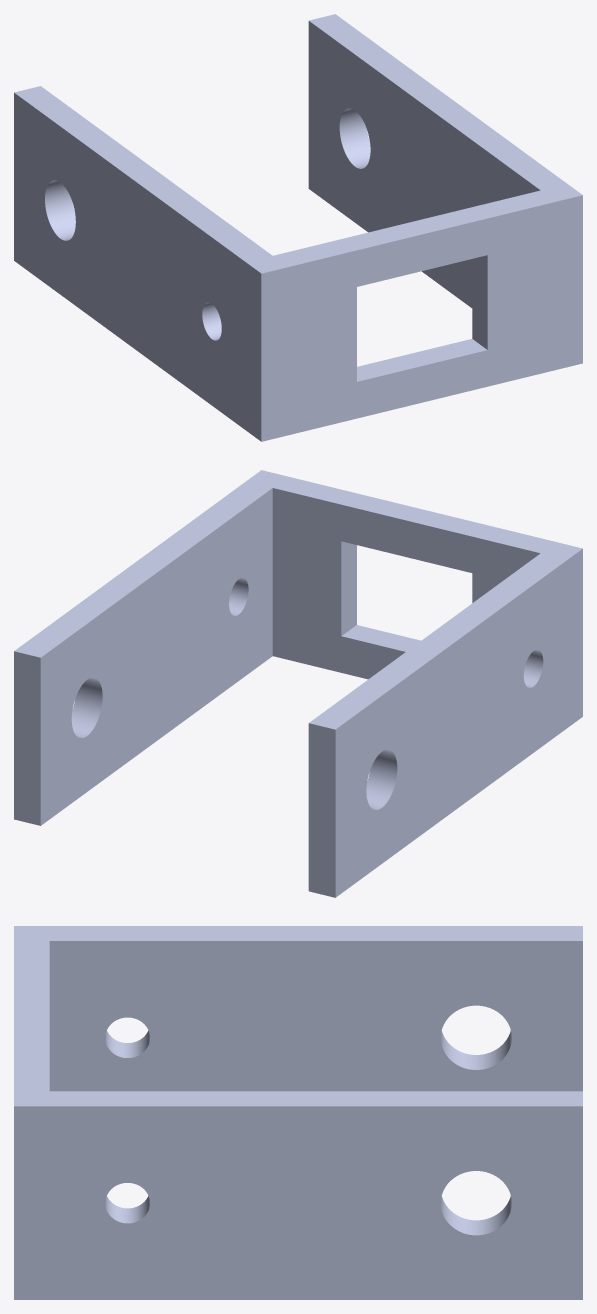
The model's file is _2025_DriveTrain_UBracket_R1.obj.
3 renders of one model, top to bottom at view 1: azimuth 30°, elevation 25°; view 2: azimuth 150°, elevation 25°; view 3: azimuth 270°, elevation 25°, orthographic. The views are drawn at different scales.
Visible parts, largest first — view 1: mesh16383, mesh16379, mesh16375, mesh16376, mesh16388, mesh16385, mesh16371, mesh16381, mesh16382; view 2: mesh16379, mesh16375, mesh16384, mesh16376, mesh16378, mesh16373, mesh16385, mesh16371, mesh16381, mesh16388, mesh16374, mesh16382; view 3: mesh16372, mesh16380, mesh16376, mesh16371, mesh16381, mesh16374, mesh16382.
Part boxes in pixels (x1=…): mesh16383: x1=261, y1=195, x2=582, y2=441; mesh16379: x1=14, y1=93, x2=261, y2=441; mesh16375: x1=308, y1=21, x2=540, y2=307; mesh16376: x1=14, y1=14, x2=582, y2=273; mesh16388: x1=357, y1=339, x2=486, y2=381; mesh16385: x1=472, y1=255, x2=487, y2=349; mesh16371: x1=339, y1=108, x2=370, y2=168; mesh16381: x1=45, y1=180, x2=75, y2=240; mesh16382: x1=202, y1=302, x2=221, y2=340; mesh16379: x1=335, y1=549, x2=582, y2=897; mesh16375: x1=40, y1=488, x2=272, y2=825; mesh16384: x1=272, y1=488, x2=539, y2=679; mesh16376: x1=14, y1=470, x2=582, y2=729; mesh16378: x1=308, y1=723, x2=335, y2=897; mesh16373: x1=14, y1=651, x2=40, y2=825; mesh16385: x1=341, y1=541, x2=356, y2=635; mesh16371: x1=71, y1=677, x2=102, y2=737; mesh16381: x1=366, y1=749, x2=397, y2=809; mesh16388: x1=341, y1=625, x2=420, y2=651; mesh16374: x1=229, y1=578, x2=248, y2=615; mesh16382: x1=523, y1=649, x2=543, y2=687; mesh16372: x1=14, y1=1106, x2=582, y2=1299; mesh16380: x1=49, y1=941, x2=582, y2=1091; mesh16376: x1=14, y1=926, x2=582, y2=1106; mesh16371: x1=440, y1=1196, x2=511, y2=1235; mesh16381: x1=440, y1=1030, x2=511, y2=1069; mesh16374: x1=105, y1=1196, x2=149, y2=1223; mesh16382: x1=105, y1=1030, x2=149, y2=1057.
Bounding box in the file's own units: 0.0762 × 0.0381 × 0.1016.
